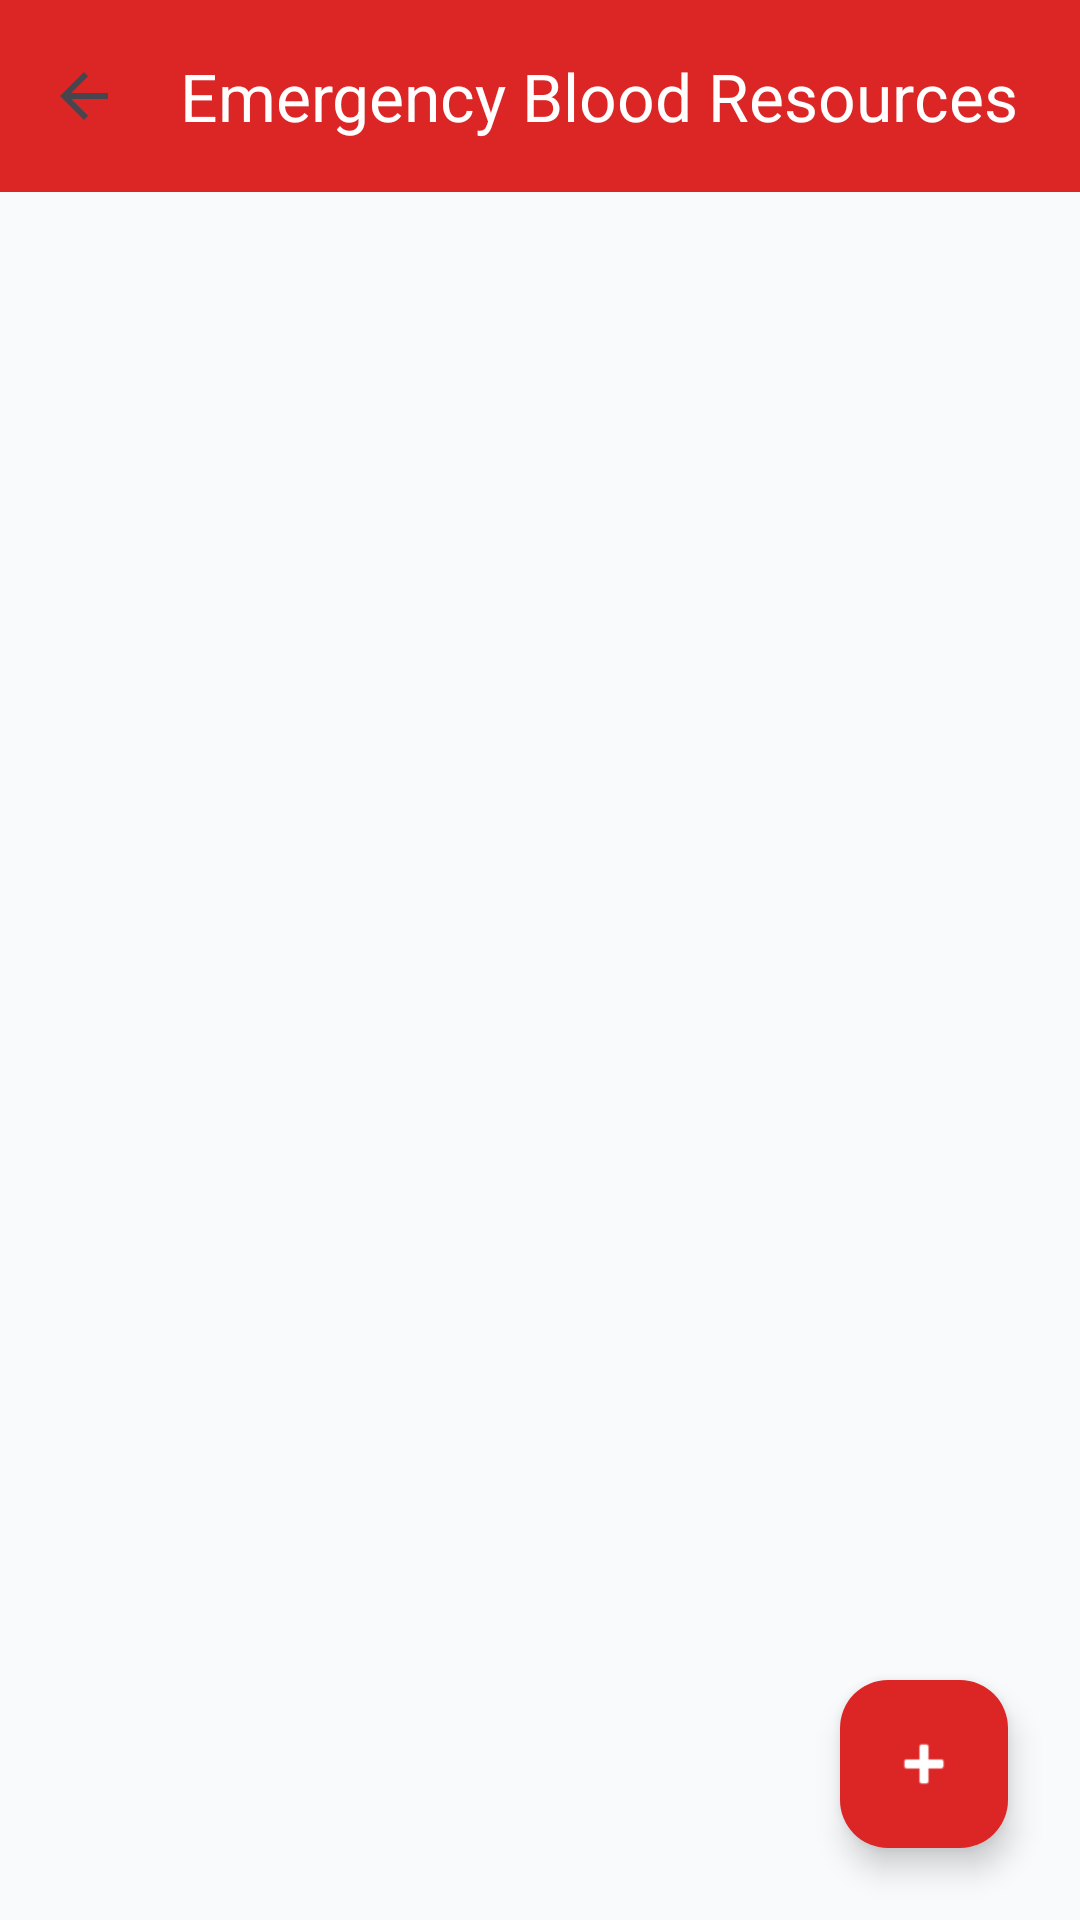

Icons on this 1080*1920 Android screen, each with its box as (x1, y1, x2, y2):
Add Blood Units: (840, 1680, 1008, 1848)
